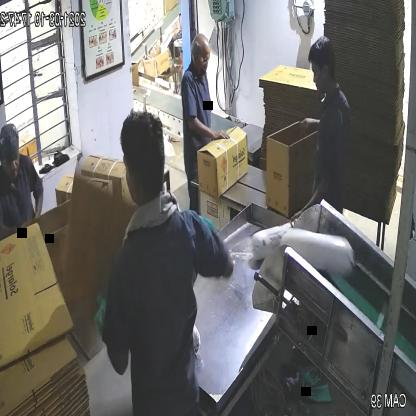no_glove: (183, 105, 232, 149)
